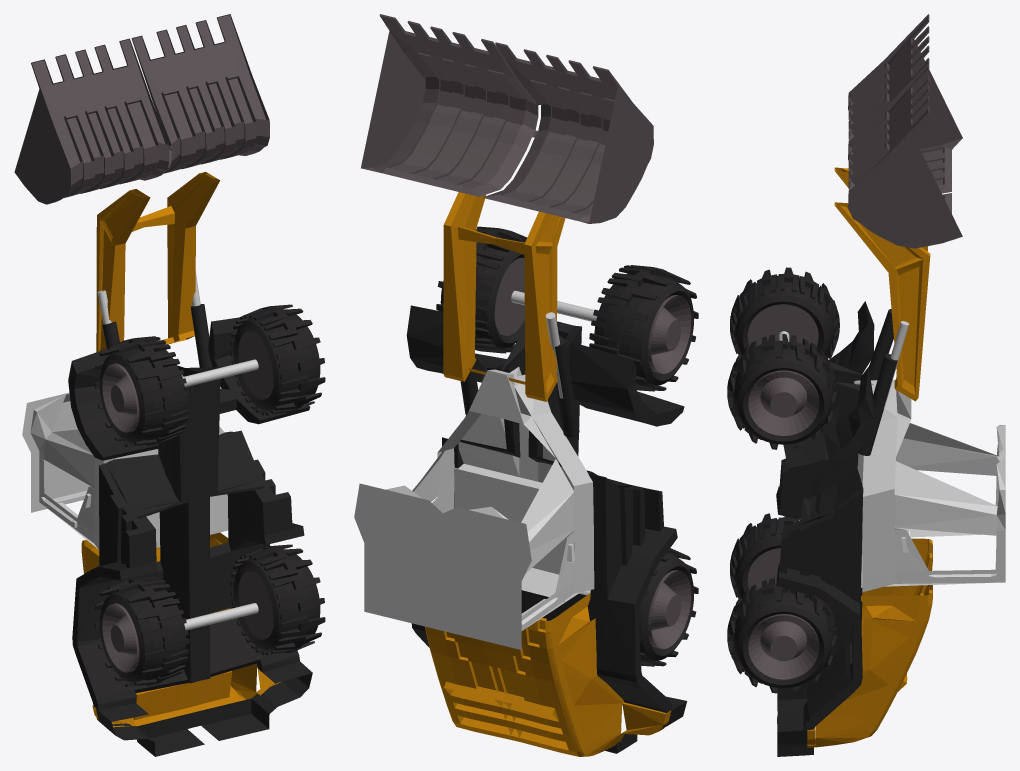
Rendered from LIEBHERRL538.dae.
The picture shows the model from 3 angles, left to right: view 1: azimuth 30°, elevation 25°; view 2: azimuth 150°, elevation 25°; view 3: azimuth 270°, elevation 25°; orthographic projection. The views are drawn at different scales.
Parts seen in each view (by area): view 1: Chassis, loaderBucket, LoaderLiftArm, Cab, leftTopTire, leftBackTire, rightTopTire, rightBackTire, BackHood, backLeftRim, backLeftRim_001, backLeftRim_002 (+4 smaller); view 2: Cab, loaderBucket, Chassis, BackHood, LoaderLiftArm, rightTopTire, leftTopTire, backLeftRim_001, backLeftRim, rightBackTire, rightLeftRim, RightliftPistonRod (+1 smaller); view 3: Chassis, Cab, loaderBucket, BackHood, leftTopTire, LoaderLiftArm, leftBackTire, rightTopTire, backLeftRim_002, rightLeftRim, rightBackTire, backLeftRim (+3 smaller).
Part boxes in pixels (<box>): Chassis: <box>68,317,312,756</box>; loaderBucket: <box>14,14,269,204</box>; LoaderLiftArm: <box>96,172,219,352</box>; Cab: <box>22,374,228,549</box>; leftTopTire: <box>230,304,325,415</box>; leftBackTire: <box>230,544,325,655</box>; rightTopTire: <box>94,336,189,446</box>; rightBackTire: <box>94,576,189,686</box>; BackHood: <box>81,532,299,727</box>; backLeftRim: <box>102,363,139,432</box>; backLeftRim_001: <box>102,603,139,672</box>; backLeftRim_002: <box>238,571,273,638</box>; Cab: <box>354,367,594,649</box>; loaderBucket: <box>361,14,653,223</box>; Chassis: <box>406,305,687,753</box>; BackHood: <box>425,593,671,756</box>; LoaderLiftArm: <box>443,192,565,401</box>; rightTopTire: <box>589,265,698,391</box>; leftTopTire: <box>436,226,527,353</box>; backLeftRim_001: <box>648,570,691,649</box>; backLeftRim: <box>648,295,691,373</box>; rightBackTire: <box>638,548,698,666</box>; rightLeftRim: <box>494,257,524,335</box>; RightliftPistonRod: <box>555,336,579,437</box>; Chassis: <box>776,301,874,756</box>; Cab: <box>854,372,1005,592</box>; loaderBucket: <box>848,14,962,248</box>; BackHood: <box>807,538,932,747</box>; leftTopTire: <box>727,334,837,449</box>; LoaderLiftArm: <box>834,167,930,401</box>; leftBackTire: <box>727,578,837,693</box>; rightTopTire: <box>730,267,839,358</box>; backLeftRim_002: <box>748,614,819,679</box>; rightLeftRim: <box>748,370,819,435</box>; rightBackTire: <box>730,513,800,600</box>; backLeftRim: <box>747,304,818,347</box>.
Bounding box in the file's own units: 6.92 × 7.84 × 20.55.
